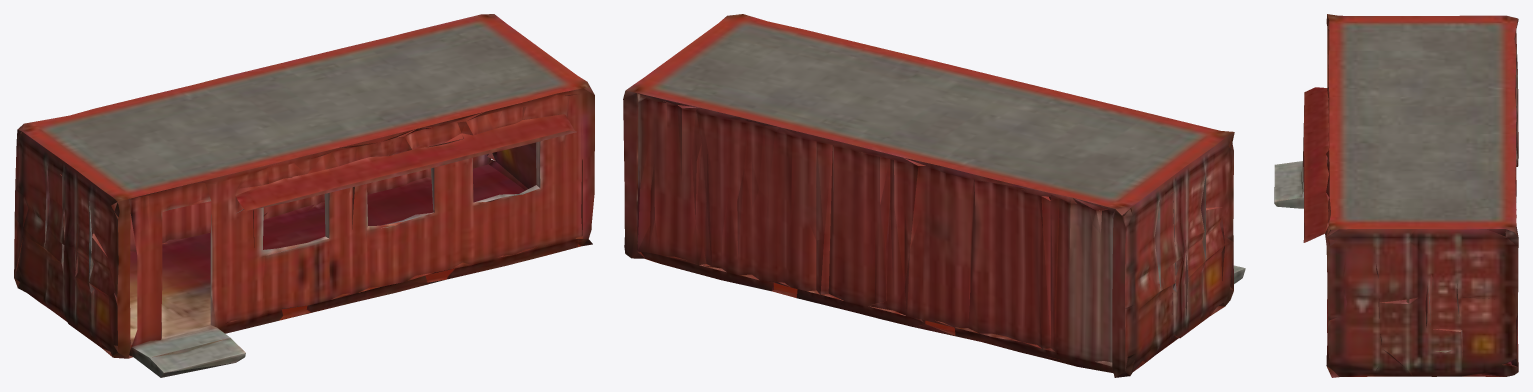
File: cargo_container_red.glb
3 renders of one model, left to right at view 1: azimuth 30°, elevation 25°; view 2: azimuth 150°, elevation 25°; view 3: azimuth 270°, elevation 25°, orthographic. The views are drawn at different scales.
Parts seen in each view (by area): view 1: turn; view 2: turn; view 3: turn.
Boxes of the visible parts, box(x1,y1,x2,y2) form: turn: box(14, 14, 594, 377); turn: box(623, 14, 1245, 377); turn: box(1274, 14, 1518, 377).
Size of the model in its own units: 8.09 by 2.6 by 3.85.
1 material, 1 textured.
